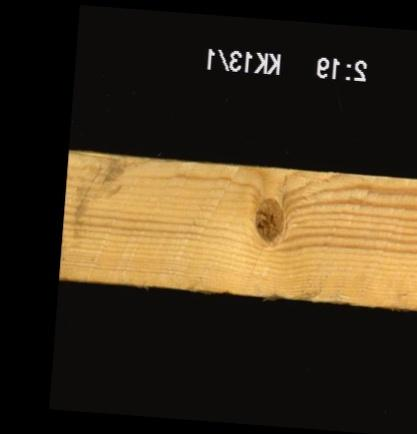sound_knot: (249, 195, 287, 242)
